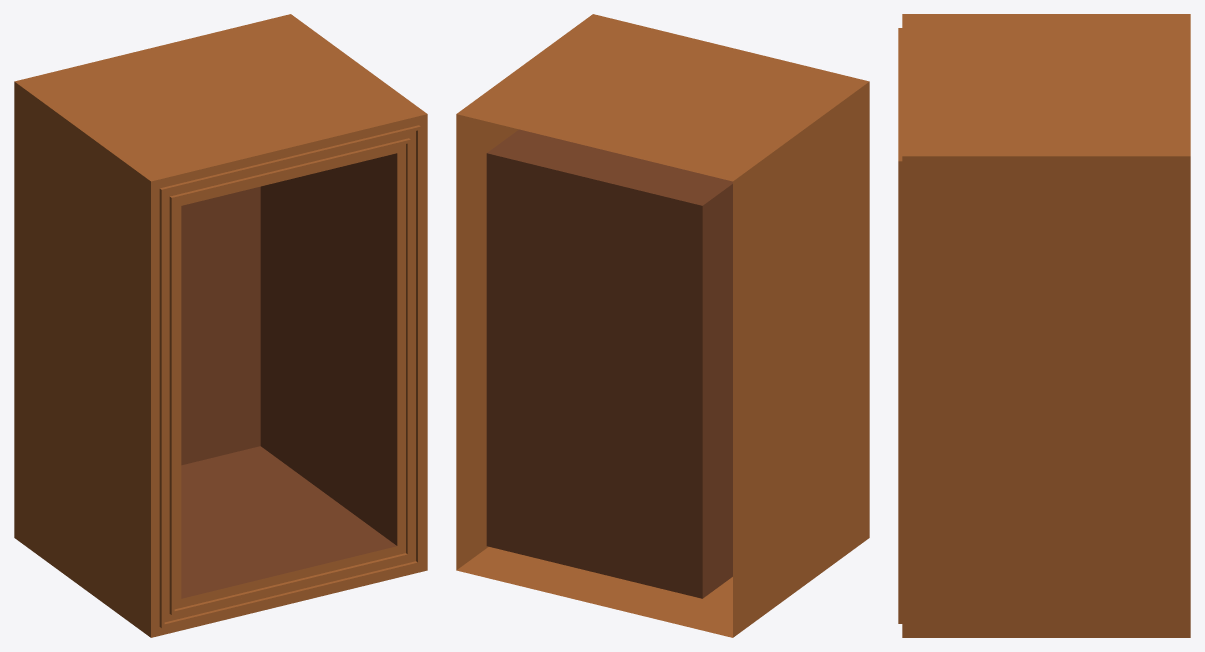
File: Book Shelf.fbx
3 views of the same model, side by side, from view 1: azimuth 30°, elevation 25°; view 2: azimuth 150°, elevation 25°; view 3: azimuth 270°, elevation 25° (orthographic). The views are drawn at different scales.
Parts seen in each view (by area): view 1: Book_Shelf; view 2: Book_Shelf; view 3: Book_Shelf.
Part boxes in pixels (x1,y1,x2,y2): Book_Shelf: [14, 14, 427, 637]; Book_Shelf: [456, 14, 869, 637]; Book_Shelf: [898, 14, 1190, 637].
Size of the model in its own units: 138 by 217 by 120.
